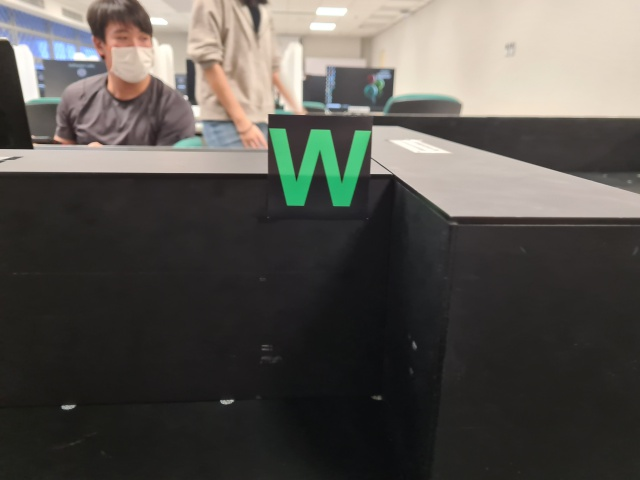alphabet_w: (268, 113, 373, 222)
